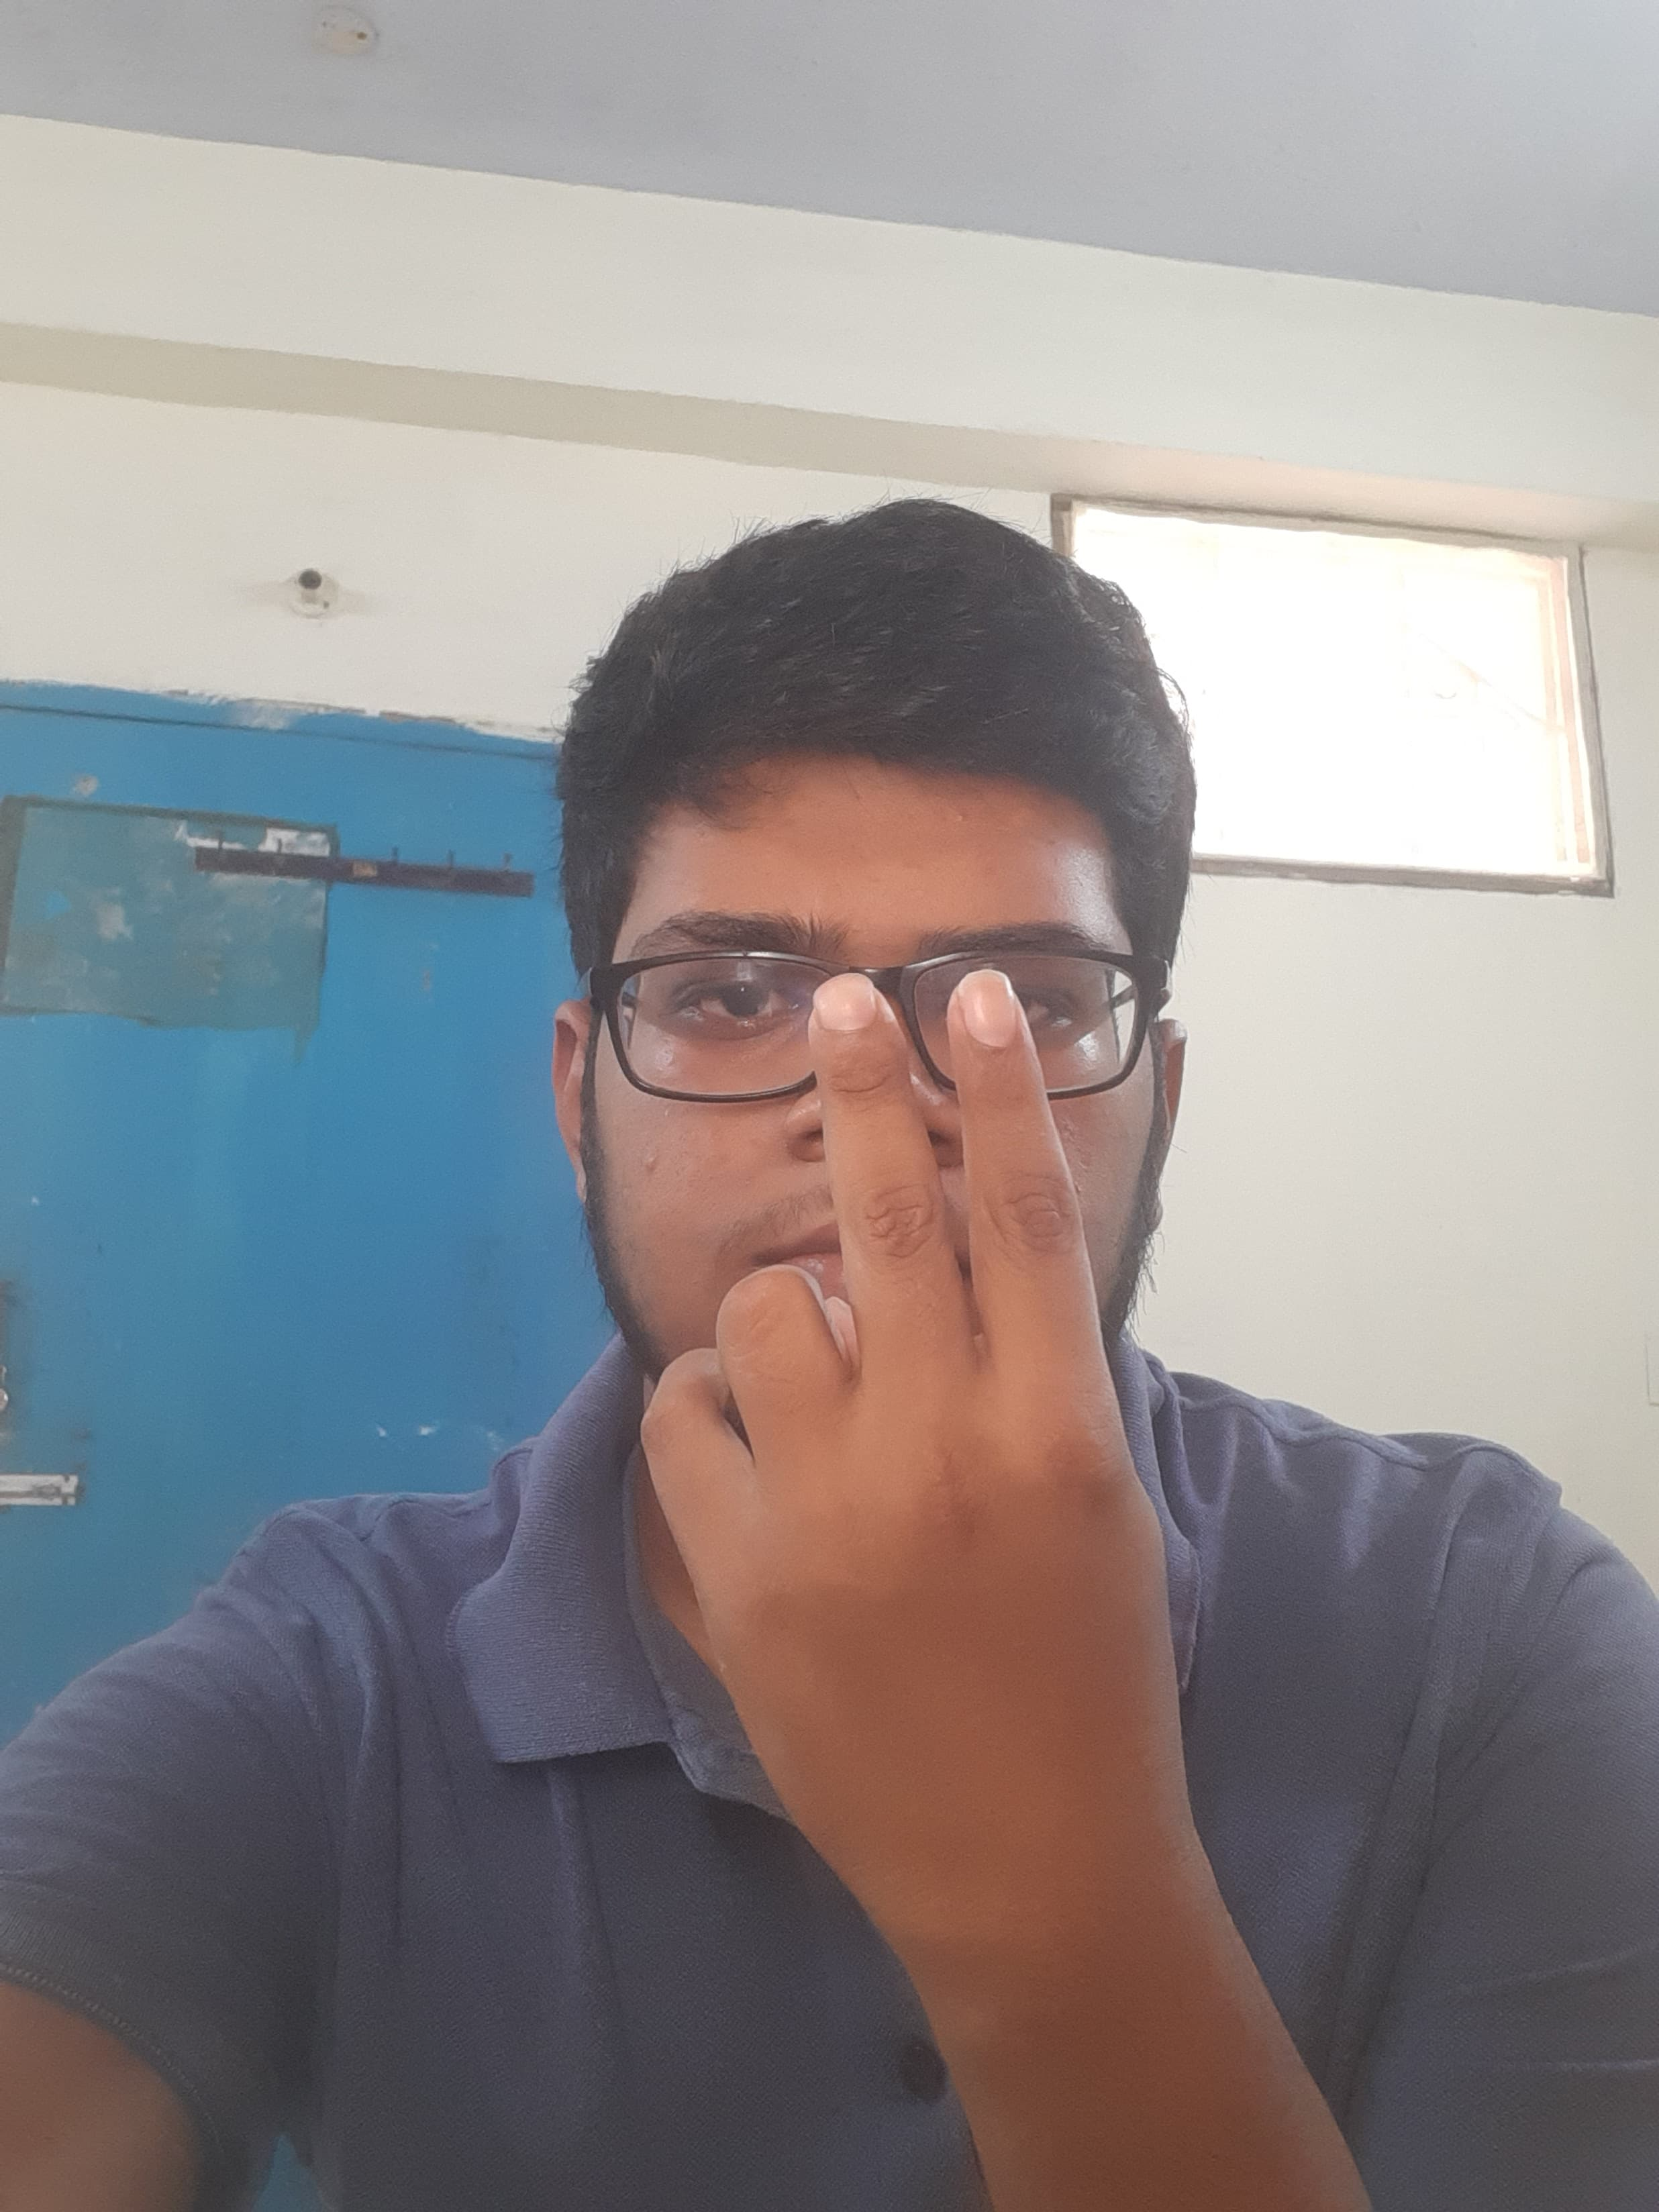ll12: (627, 965, 1173, 1857)
